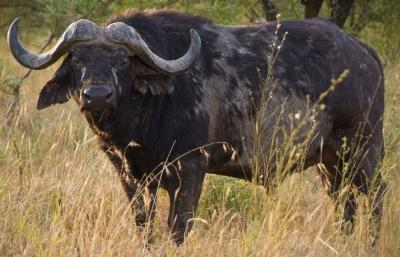buffalo: (7, 11, 383, 243), (343, 196, 355, 230)
